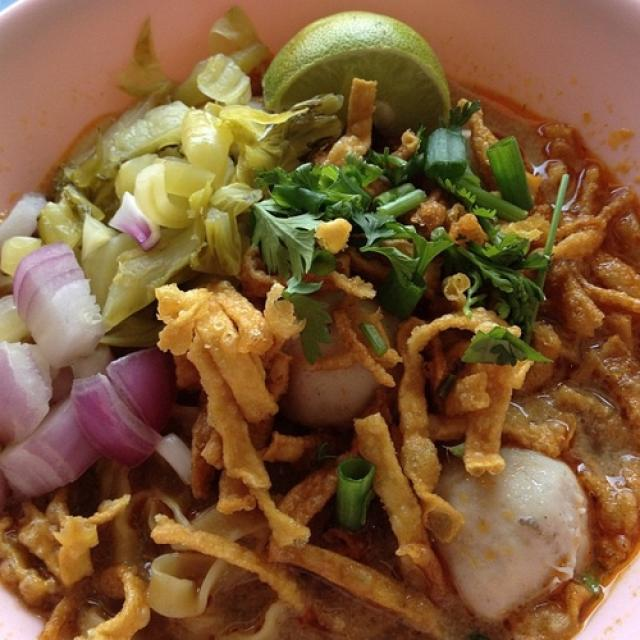面条主食: (9, 23, 630, 631)
